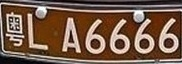L: (27, 13, 48, 50)
